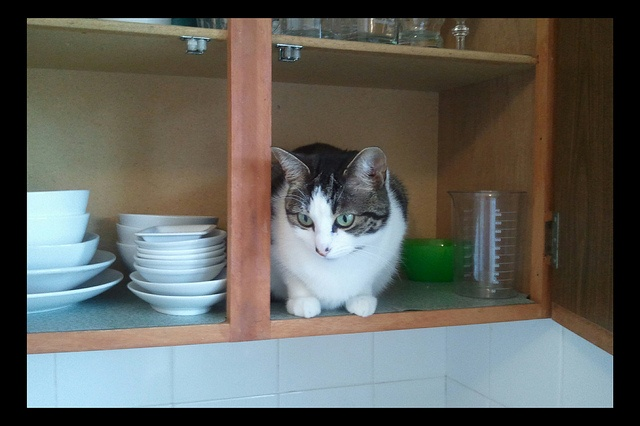bowl: (117, 213, 337, 426), (2, 229, 232, 426), (135, 228, 363, 426), (133, 225, 349, 426), (136, 241, 363, 426), (133, 259, 361, 426), (130, 266, 357, 426), (119, 226, 259, 426), (117, 244, 255, 426), (27, 190, 121, 409), (25, 250, 140, 426), (28, 236, 129, 426), (28, 213, 117, 426)
cat: (268, 142, 640, 426)
cup: (321, 18, 640, 60), (368, 18, 640, 62), (397, 17, 640, 65)
